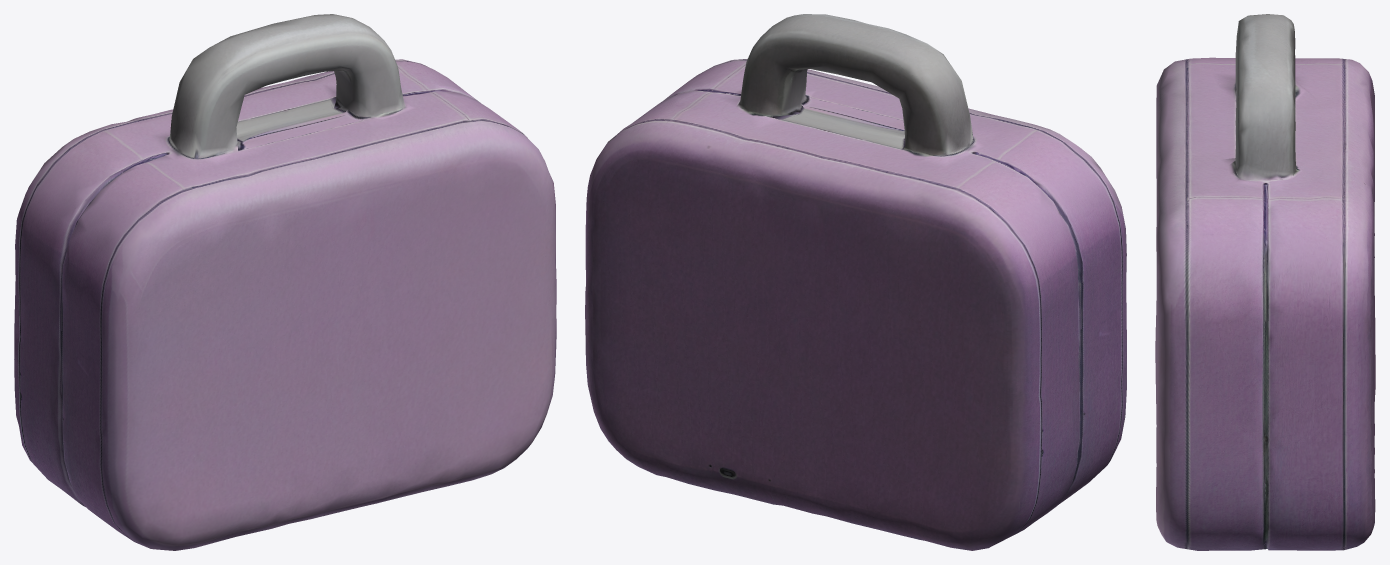
File: P_GroomingCase_h28.fbx
3 renders of one model, left to right at view 1: azimuth 30°, elevation 25°; view 2: azimuth 150°, elevation 25°; view 3: azimuth 270°, elevation 25°, orthographic. The views are drawn at different scales.
Parts seen in each view (by area): view 1: texture_mapping; view 2: texture_mapping; view 3: texture_mapping.
Boxes of the visible parts, x1,y1,x2,y2 form: texture_mapping: (14, 14, 556, 550); texture_mapping: (585, 14, 1126, 550); texture_mapping: (1155, 14, 1375, 550).
Size of the model in its own units: 99.94 by 96.82 by 43.87.
1 material, 1 textured.
